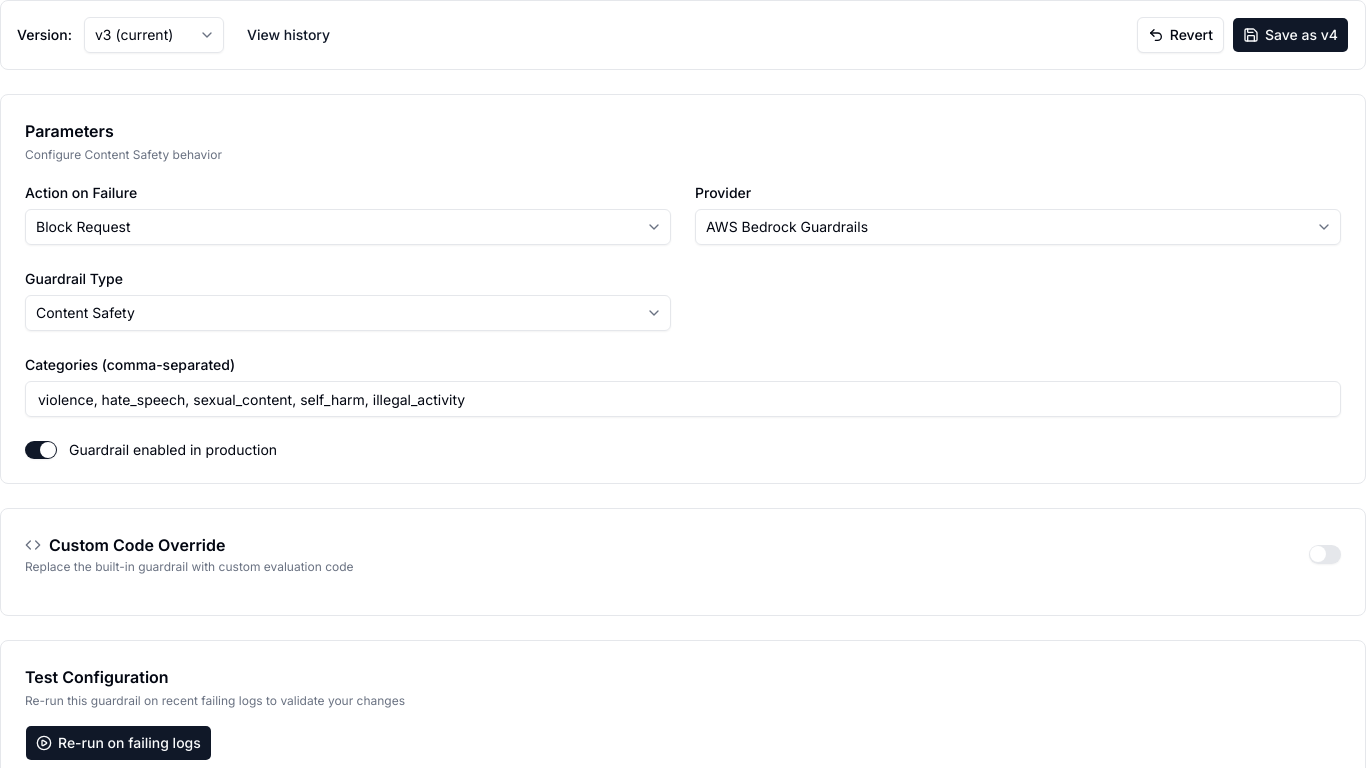
GuardrailConfig › should show loading state when re-run is clicked
Click the button "Re-run on failing logs" at (118, 743), box [25,725,212,761]
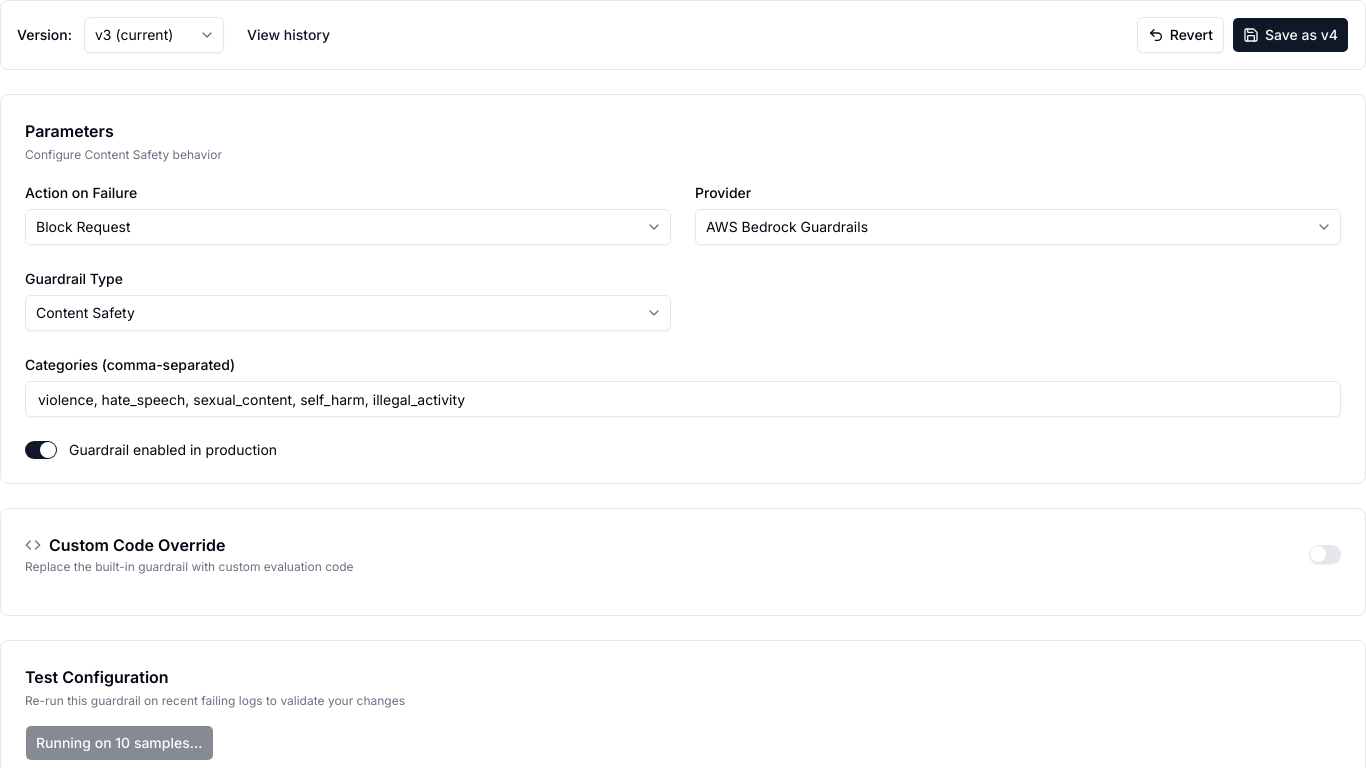
Check: the button "Running on 10 samples..." is shown, box [25,725,214,761]
